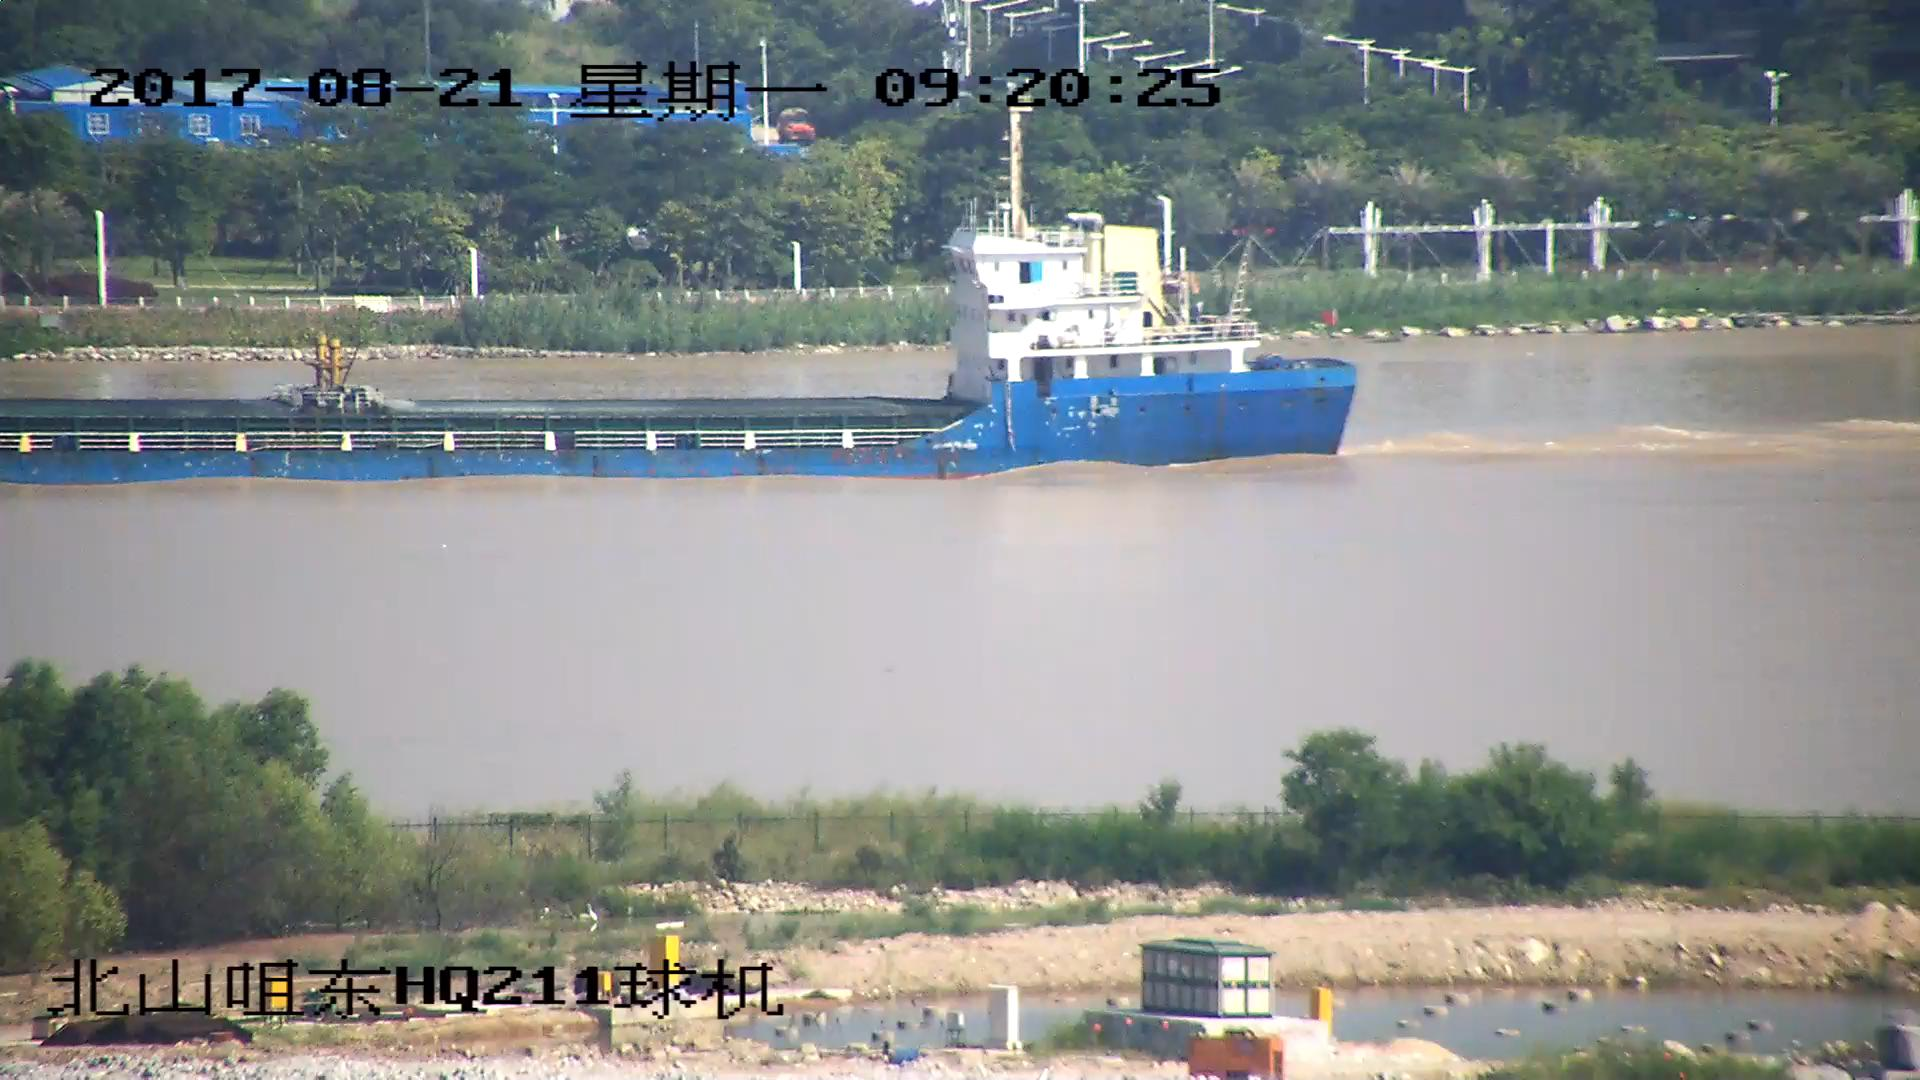general cargo ship: (1, 106, 1348, 481)
